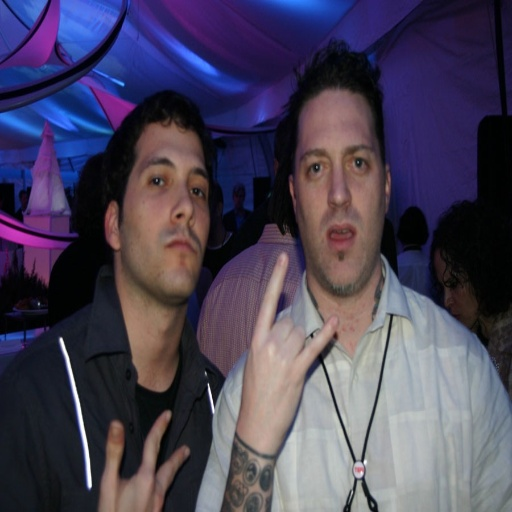hand: (239, 251, 339, 443), (81, 408, 184, 506)
